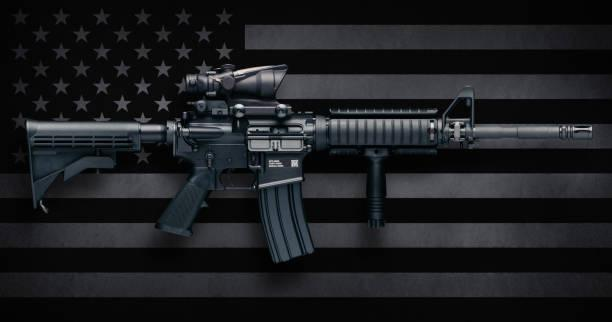larga: (25, 64, 594, 265)
